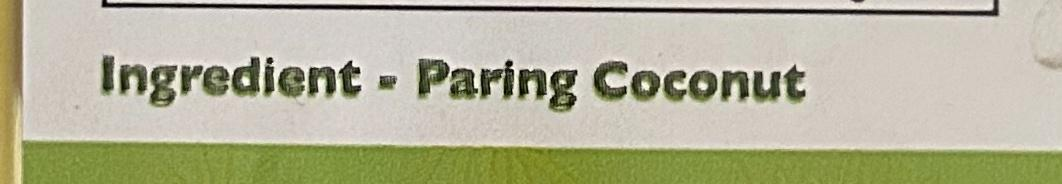ingredients: (85, 29, 884, 125)
